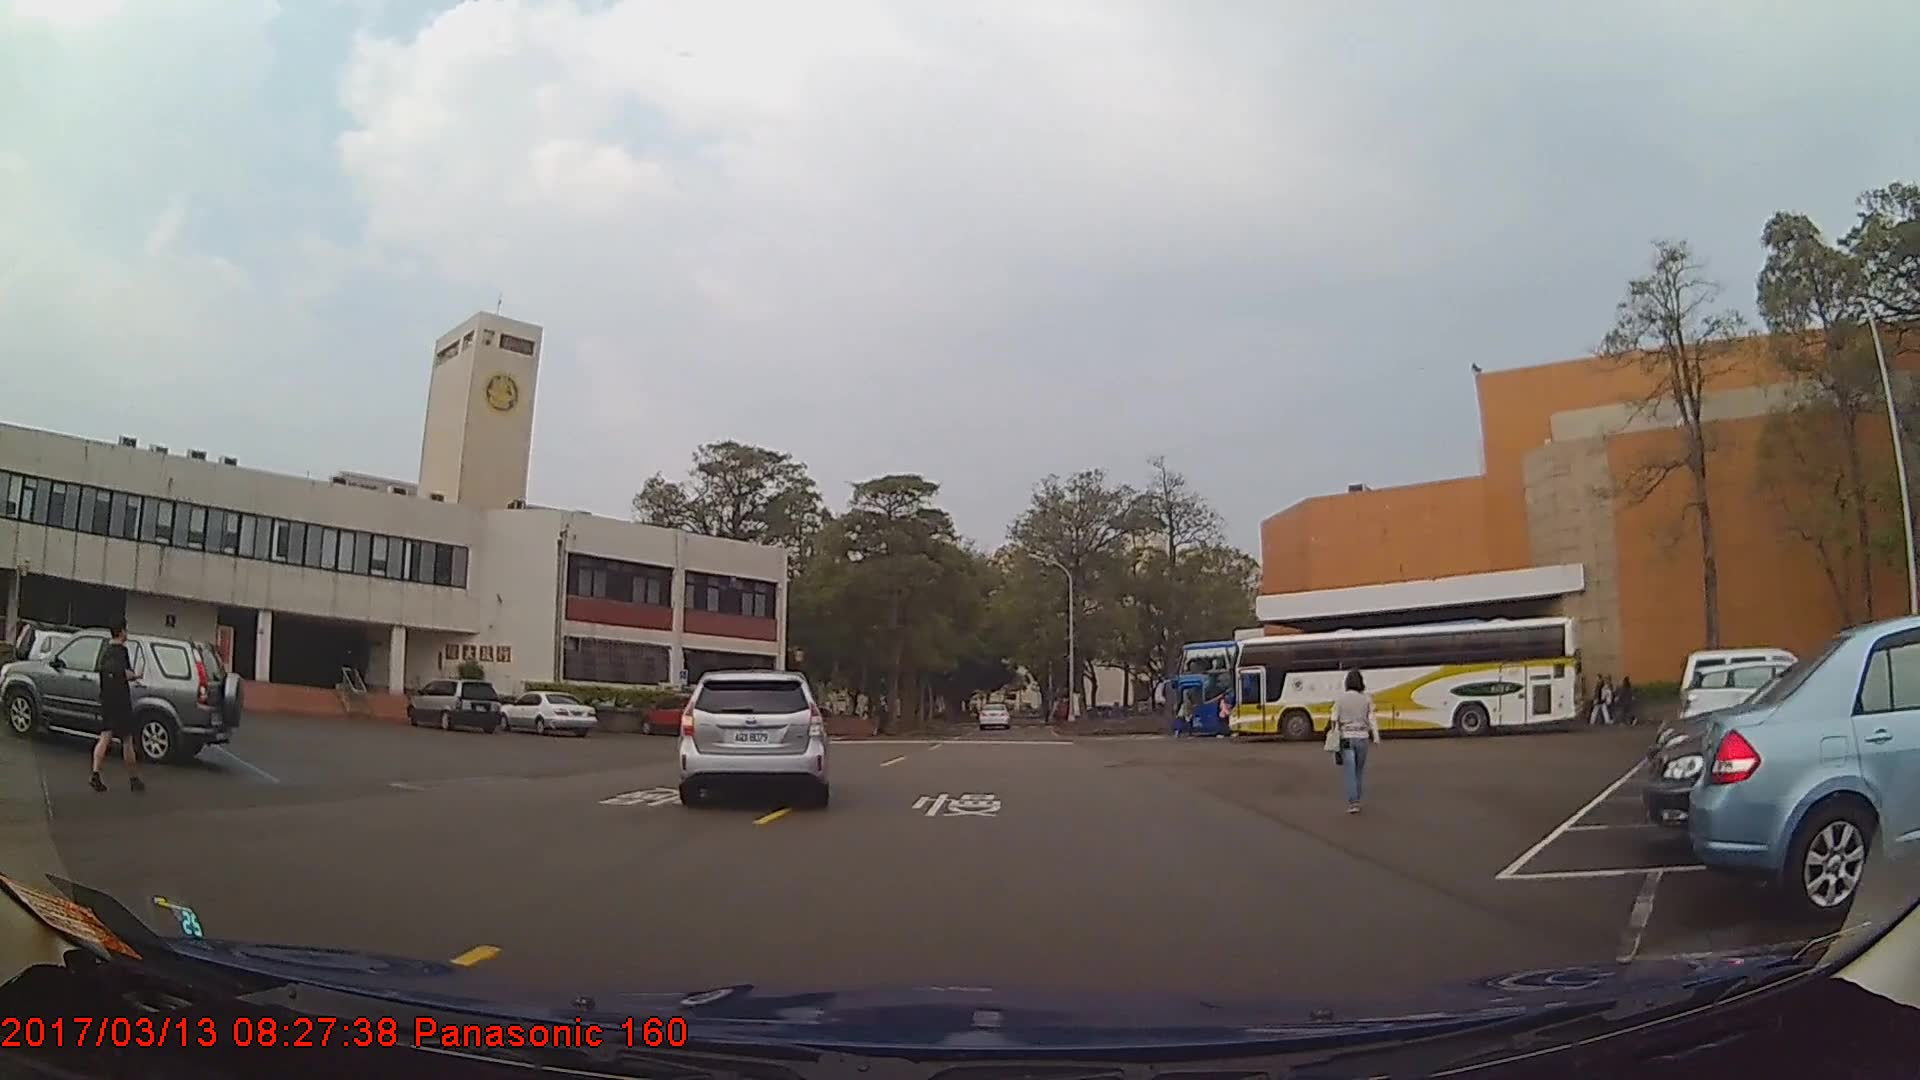pedestrian: (87, 611, 143, 792), (1325, 667, 1377, 813), (1614, 669, 1643, 730)
vehicle: (1690, 615, 1920, 922), (1225, 614, 1581, 743), (2, 628, 243, 762), (1169, 638, 1467, 736), (679, 666, 828, 807), (1679, 660, 1841, 739), (405, 676, 501, 731), (495, 689, 598, 735), (639, 691, 711, 735), (979, 703, 1010, 730)
